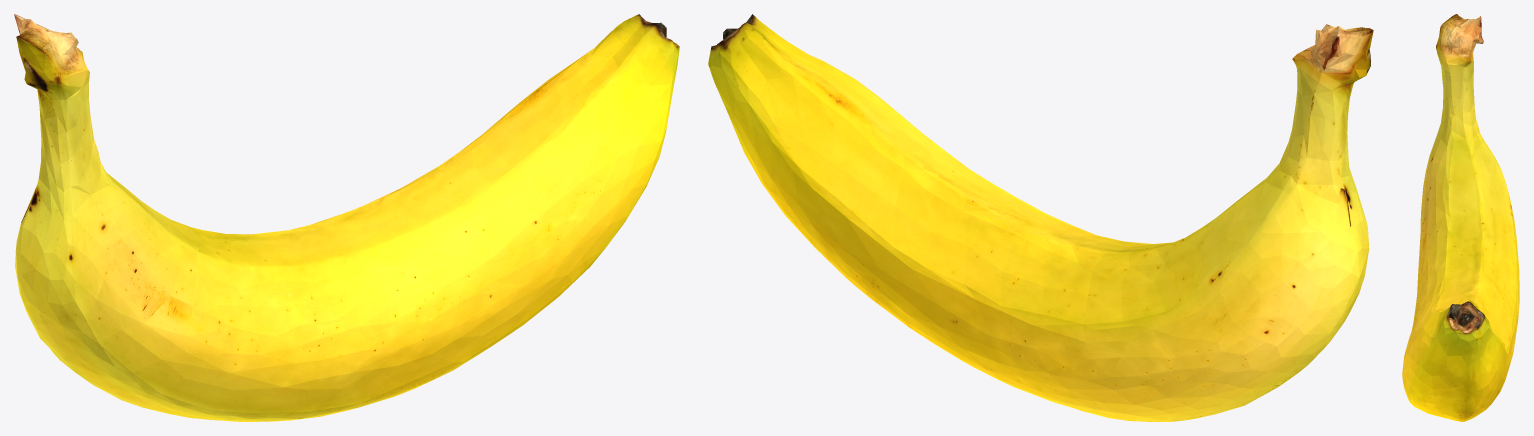
Rendered from banana-v1-transformed.glb.
The picture shows the model from 3 angles, left to right: view 1: azimuth 30°, elevation 25°; view 2: azimuth 150°, elevation 25°; view 3: azimuth 270°, elevation 25°; orthographic projection. The views are drawn at different scales.
Visible parts, largest first — view 1: banana; view 2: banana; view 3: banana.
Part boxes in pixels (x1,y1,x2,y2): banana: (14,14,679,421); banana: (708,14,1373,421); banana: (1402,14,1519,421).
Bounding box in the file's own units: 6.79 × 4.43 × 1.62.
1 material, 1 textured.
